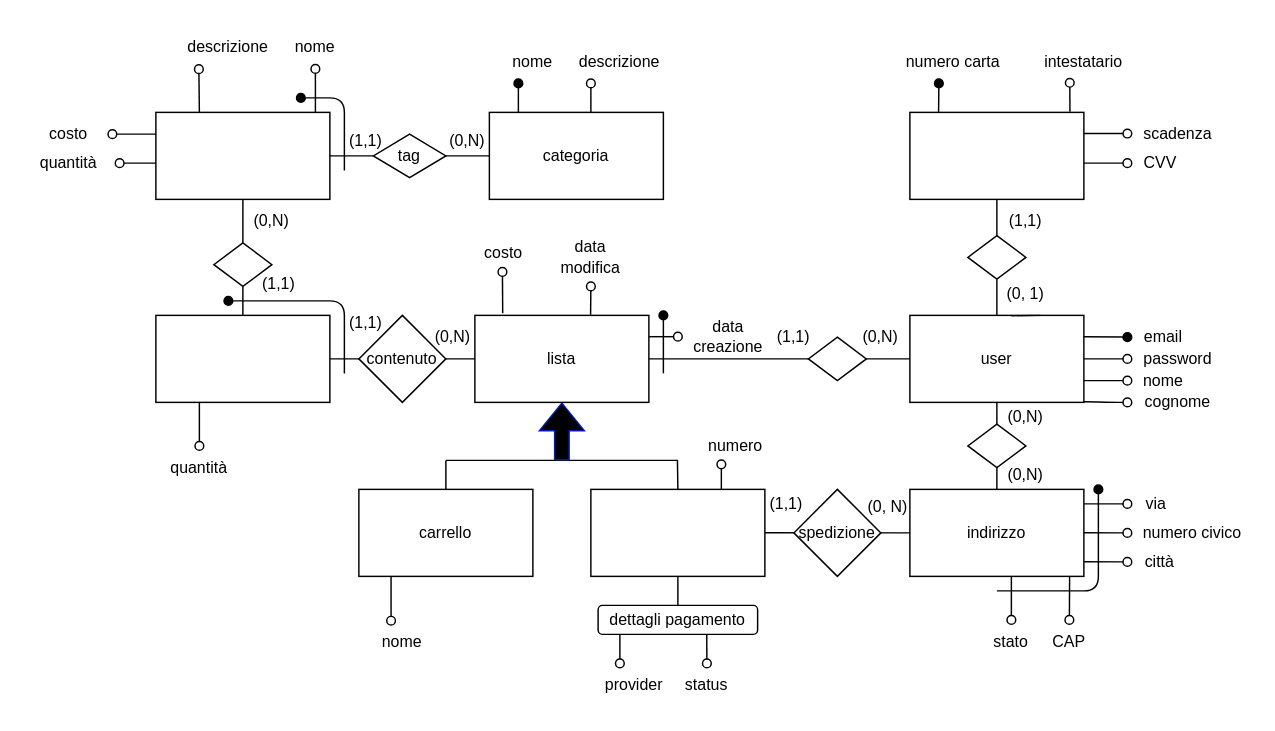
This 1275x731 diagram has some shape labels left out. Here are the shapes that lost their labels. From the top down, the centre of each, then its label:
At [242,155]: "prodotto".
At [996,155]: "carta di credito".
At [242,358]: "oggetto selezionato".
At [677,532]: "dettagli ordine".
